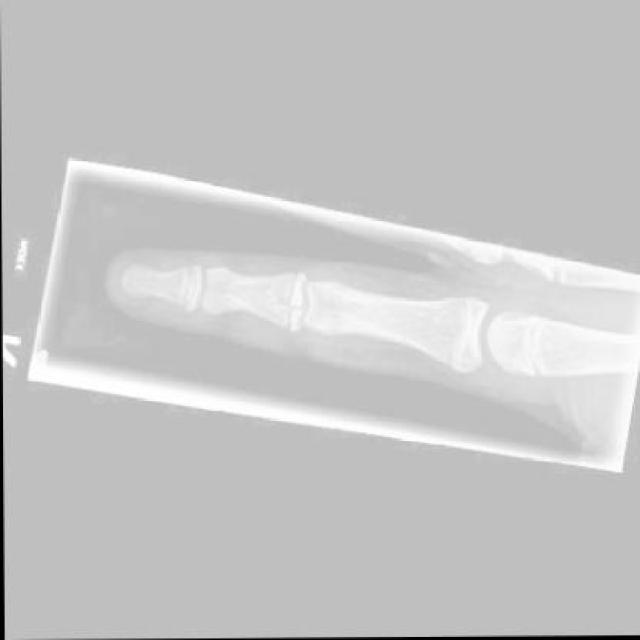Fracture: (265, 268, 309, 315)
